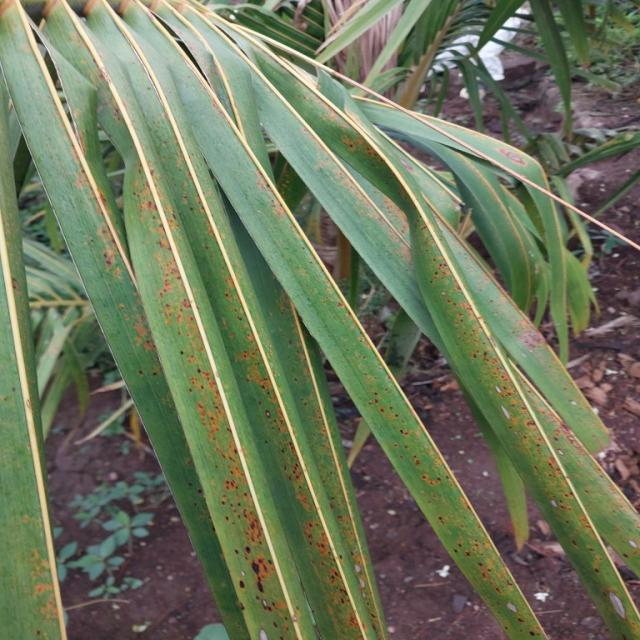gray leaf spot: (110, 132, 389, 624)
